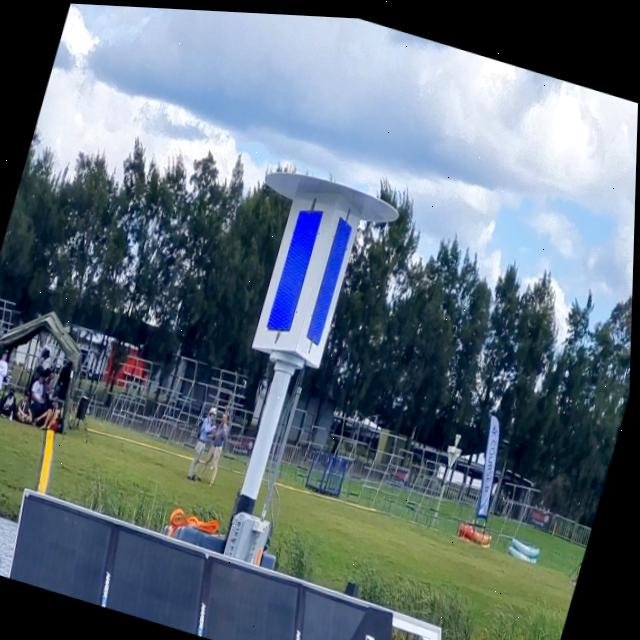led: (260, 188, 333, 343), (297, 194, 363, 356)
